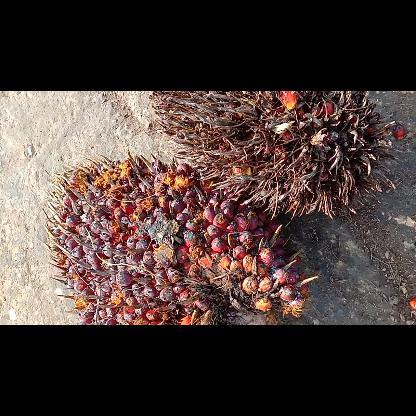TBS masak: (42, 150, 316, 324)
Terlalu masak: (148, 91, 400, 215)
